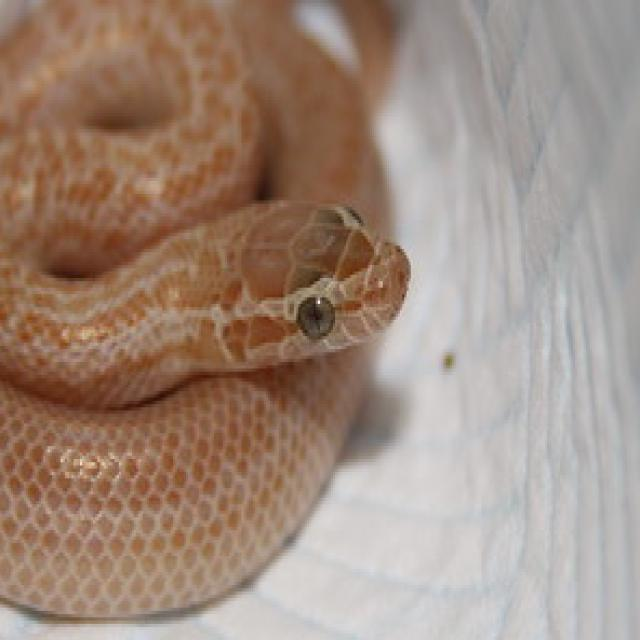Snake: (0, 1, 411, 620)
